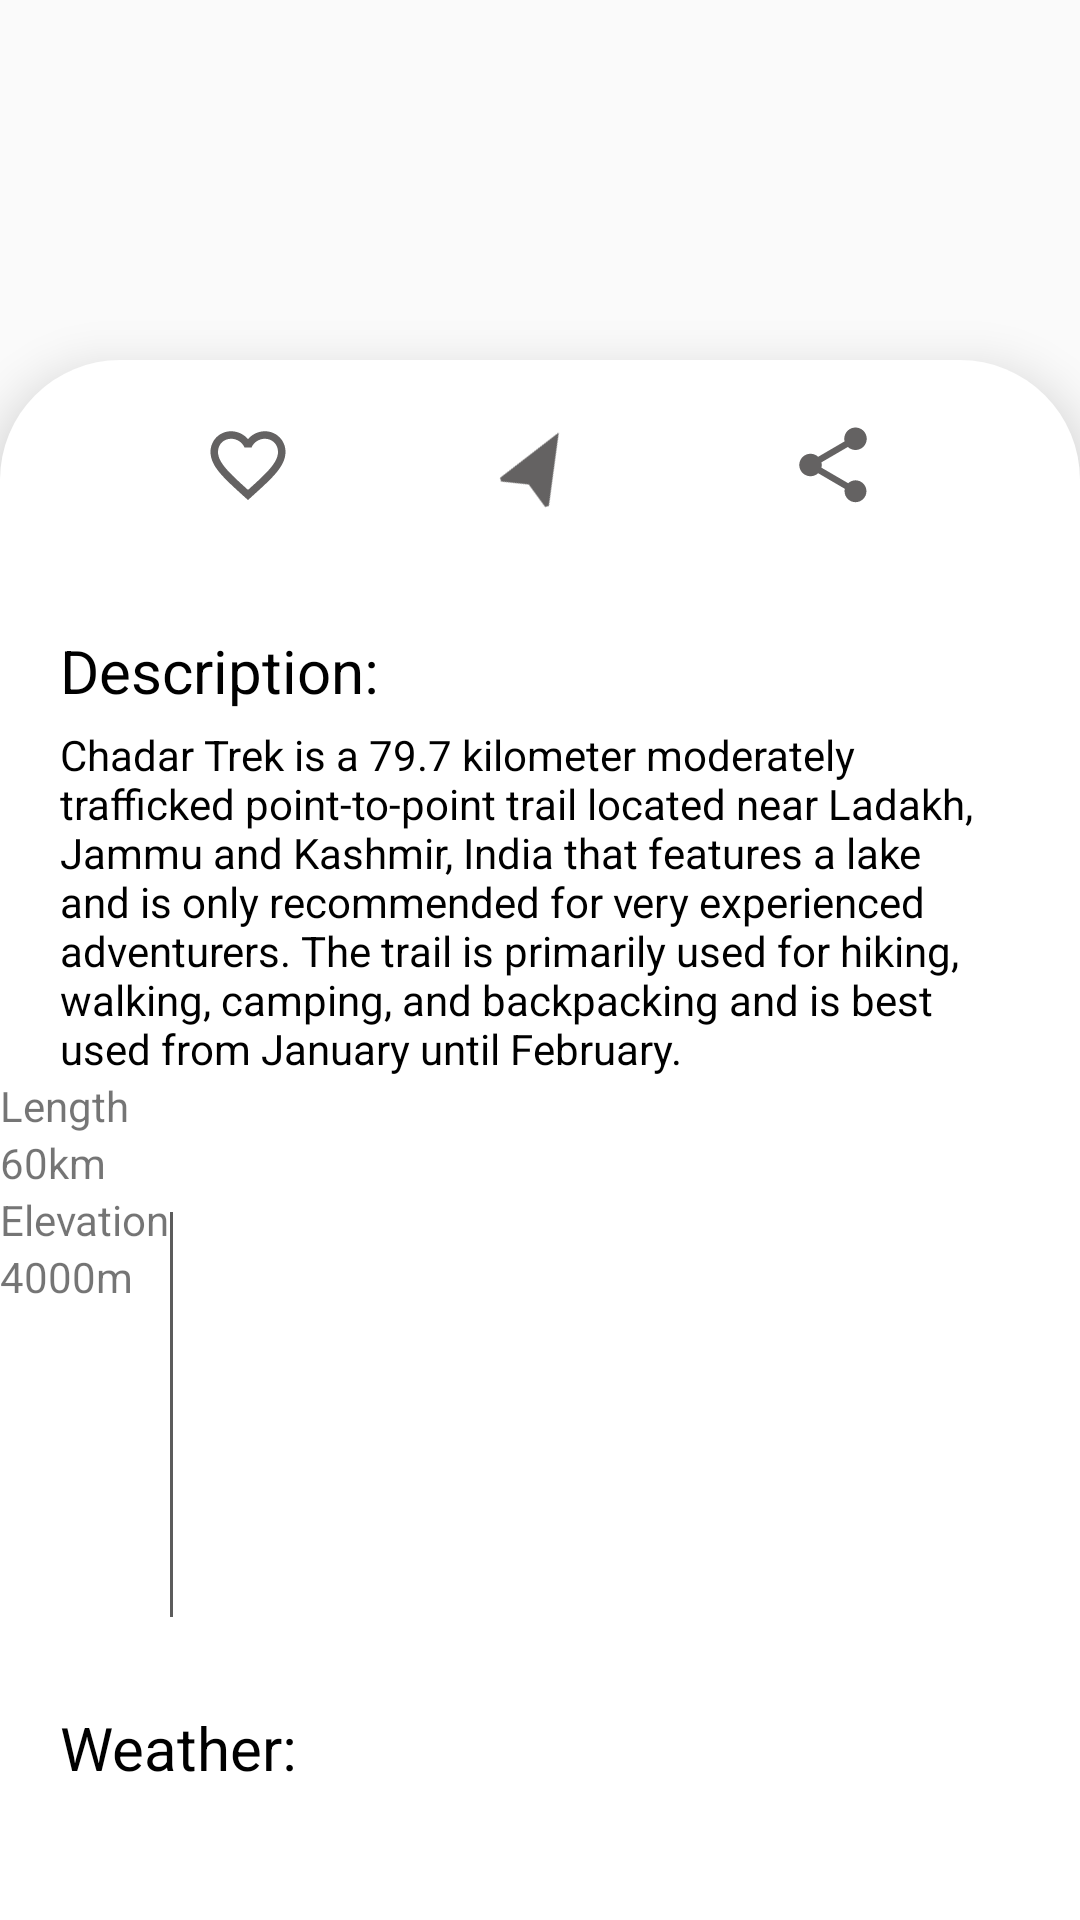

Icons on this 1080px x 1920px Android screen, each with its box as (x1, y1, x2, y2):
favorite border: (210, 431, 286, 500)
share: (799, 427, 867, 503)
